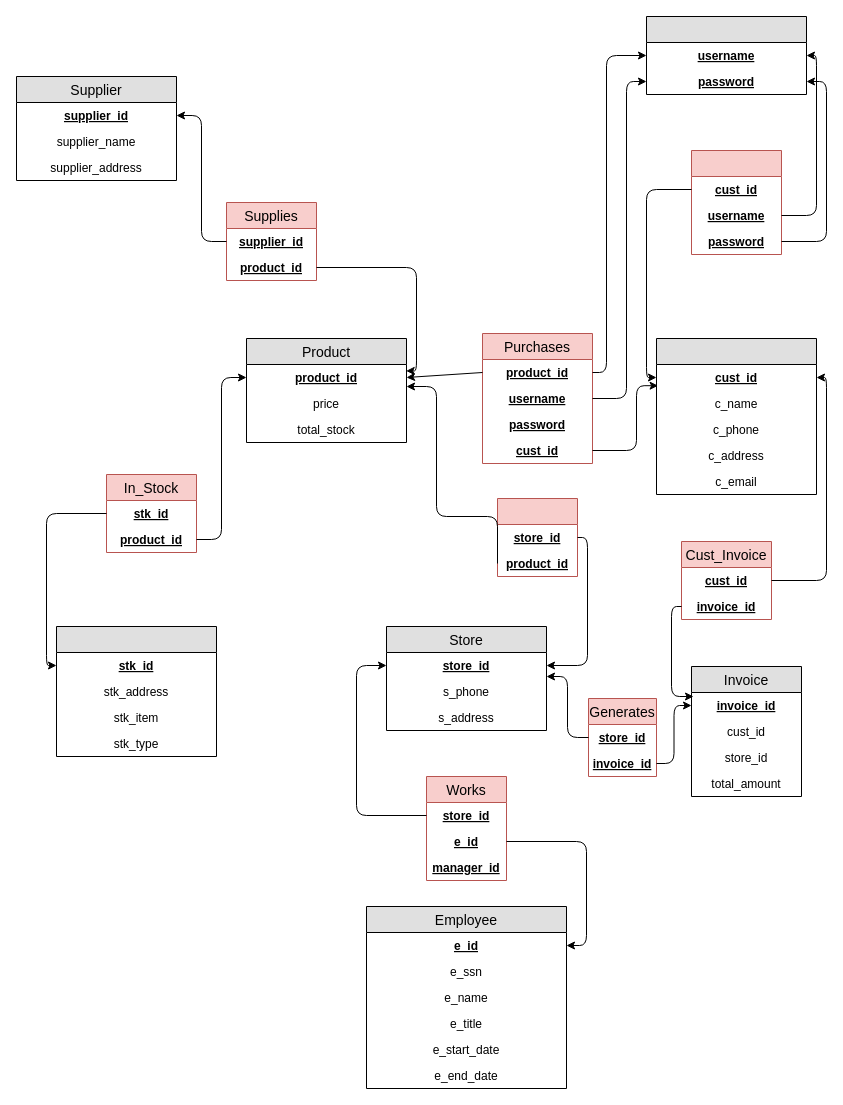
This 843x1105 diagram has some shape labels left out. Each missing label, with the box of its shape:
Contains: (496, 498, 578, 576)
Customer: (656, 338, 816, 494)
Online_Acc: (646, 16, 806, 94)
Online_Cust: (690, 150, 782, 254)
Stock: (56, 626, 216, 756)
